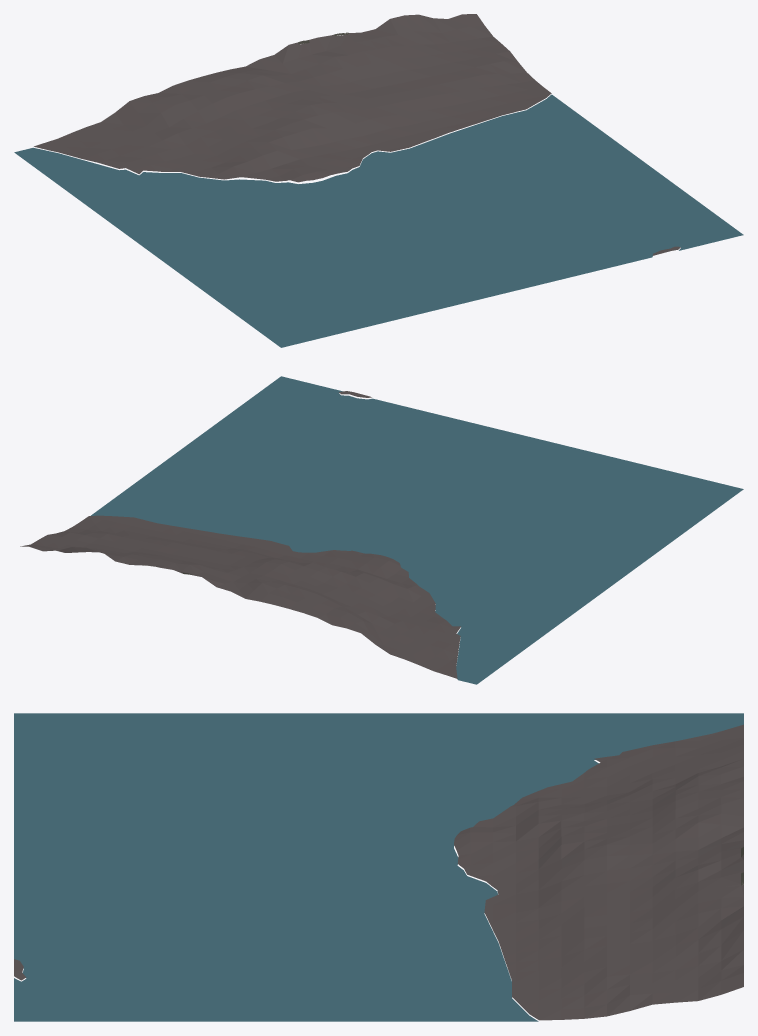
3 renders of one model, top to bottom at view 1: azimuth 30°, elevation 25°; view 2: azimuth 150°, elevation 25°; view 3: azimuth 270°, elevation 25°, orthographic. The views are drawn at different scales.
Parts seen in each view (by area): view 1: c_p05_p09; view 2: c_p05_p09; view 3: c_p05_p09.
Boxes of the visible parts, x1,y1,x2,y2 form: c_p05_p09: (14, 14, 743, 347); c_p05_p09: (20, 376, 743, 684); c_p05_p09: (14, 713, 743, 1021).
Size of the model in its own units: 128 by 11.04 by 128.
